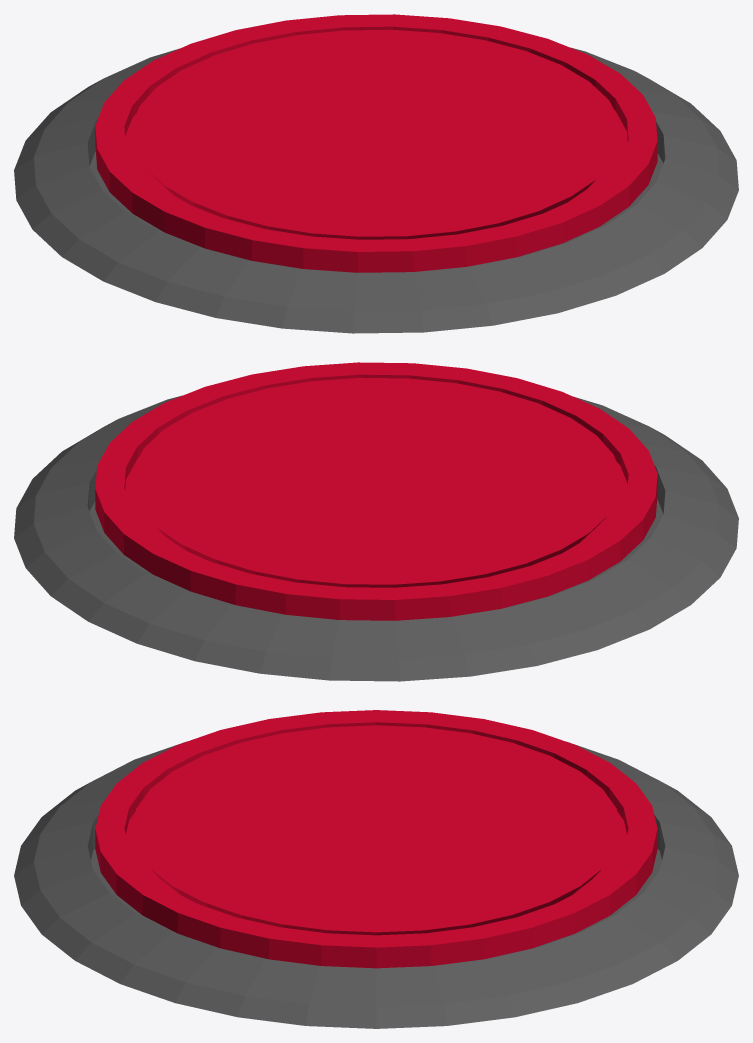
The model's file is props.fbx_B8.fbx.
3 views of the same model, one above another, from view 1: azimuth 30°, elevation 25°; view 2: azimuth 150°, elevation 25°; view 3: azimuth 270°, elevation 25° (orthographic).
Parts seen in each view (by area): view 1: Circle.010, Circle.011; view 2: Circle.010, Circle.011; view 3: Circle.010, Circle.011.
Boxes of the visible parts, bbox=[...] form: Circle.010: bbox=[95, 14, 657, 272]; Circle.011: bbox=[14, 47, 738, 333]; Circle.010: bbox=[95, 362, 657, 620]; Circle.011: bbox=[14, 395, 738, 681]; Circle.010: bbox=[95, 710, 657, 968]; Circle.011: bbox=[14, 742, 738, 1028].
Size of the model in its own units: 1.11 by 0.0792 by 1.11.
